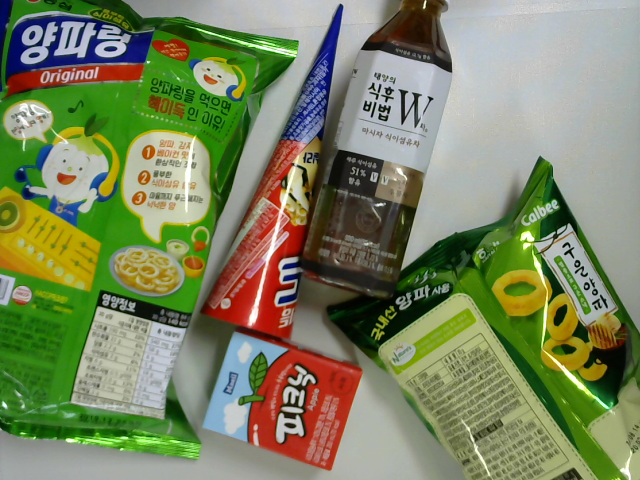Grilled_Onions: (324, 150, 640, 480)
Oninon_Ring: (1, 1, 302, 463)
Picnic_Apple: (199, 324, 362, 473)
Post-meal_recipe_W_tea_500ml: (299, 1, 455, 304)
World_Cone_Banila: (197, 2, 344, 340)
